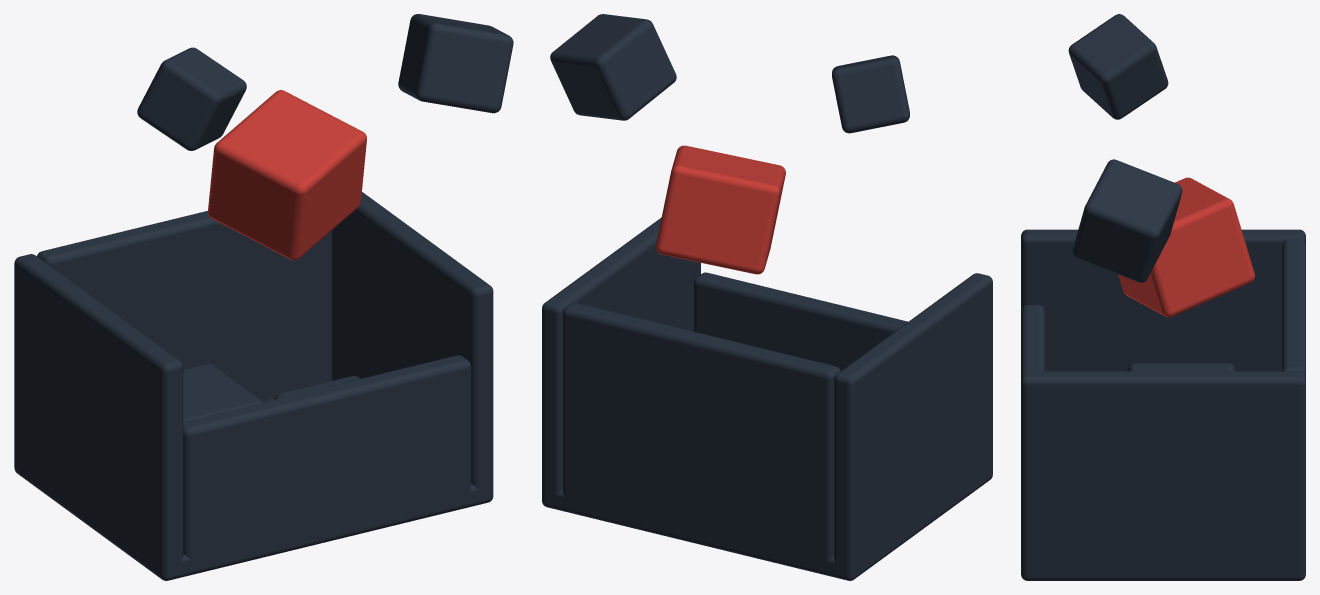
The model's file is pieceB.glb.
The picture shows the model from 3 angles, left to right: view 1: azimuth 30°, elevation 25°; view 2: azimuth 150°, elevation 25°; view 3: azimuth 270°, elevation 25°; orthographic projection. The views are drawn at different scales.
Parts seen in each view (by area): view 1: wallF, wallL, wallB, wallR, lift0, lift1, lift2, floor, rest0; view 2: wallB, wallL, lift0, wallR, wallF, lift1, lift2, floor; view 3: wallR, wallL, lift0, lift1, lift2, wallB, wallF, rest0.
Boxes of the visible parts, x1,y1,x2,y2 form: wallF: (183, 355, 471, 574); wallL: (14, 254, 183, 580); wallB: (37, 211, 331, 401); wallR: (332, 192, 493, 504); lift0: (208, 90, 366, 260); lift1: (398, 14, 513, 113); lift2: (137, 47, 246, 150); floor: (14, 398, 492, 580); rest0: (183, 363, 263, 421); wallB: (563, 303, 840, 575); wallL: (834, 273, 992, 580); lift0: (655, 145, 785, 274); wallR: (542, 217, 700, 509); wallF: (694, 272, 907, 370); lift1: (550, 14, 676, 120); lift2: (832, 55, 909, 133); floor: (543, 466, 992, 580); wallR: (1021, 371, 1305, 580); wallL: (1021, 229, 1305, 371); lift0: (1118, 177, 1254, 317); lift1: (1072, 159, 1182, 282); lift2: (1068, 14, 1168, 119); wallB: (1282, 239, 1305, 376); wallF: (1021, 305, 1044, 376); rest0: (1127, 363, 1235, 371).
Size of the model in its own units: 2.9 by 3.25 by 1.9.
